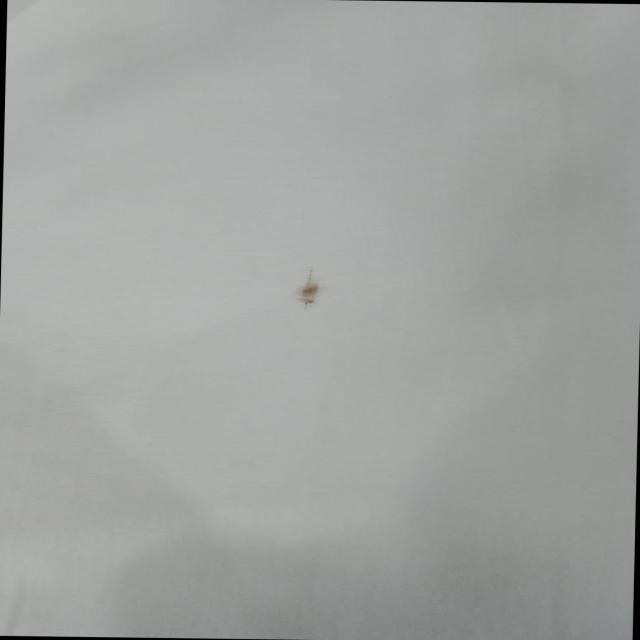stain: (276, 264, 342, 319)
